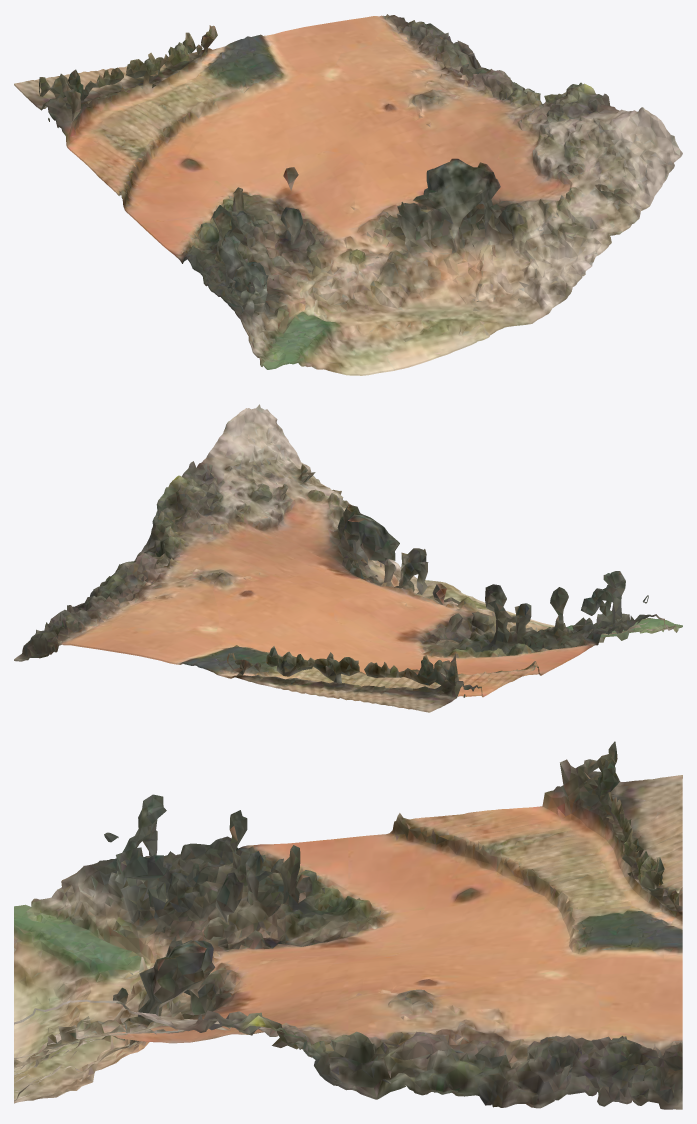
The model's file is BlockYAYY_L17_7.glb.
3 renders of one model, top to bottom at view 1: azimuth 30°, elevation 25°; view 2: azimuth 150°, elevation 25°; view 3: azimuth 270°, elevation 25°, orthographic. The views are drawn at different scales.
Parts seen in each view (by area): view 1: rtc; view 2: rtc; view 3: rtc.
Part boxes in pixels (x1=…): rtc: x1=14, y1=14, x2=682, y2=375; rtc: x1=14, y1=404, x2=682, y2=712; rtc: x1=14, y1=741, x2=682, y2=1109.
Bounding box in the file's own units: 77.72 × 29.53 × 82.03.
5 materials, 5 textured.
